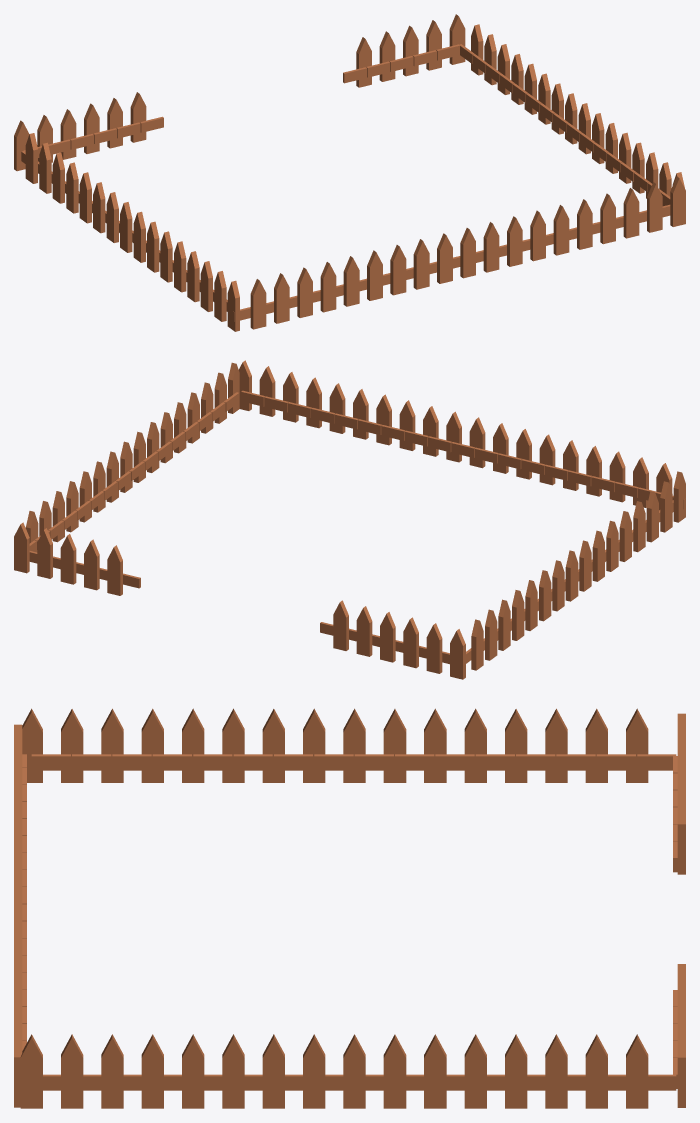
The model's file is Cerca02.fbx.
3 renders of one model, top to bottom at view 1: azimuth 30°, elevation 25°; view 2: azimuth 150°, elevation 25°; view 3: azimuth 270°, elevation 25°, orthographic. The views are drawn at different scales.
Visible parts, largest first — view 1: CERCA_02; view 2: CERCA_02; view 3: CERCA_02.
Boxes of the visible parts, x1,y1,x2,y2 form: CERCA_02: (14, 14, 685, 331); CERCA_02: (14, 360, 685, 679); CERCA_02: (14, 708, 685, 1108).
Bounding box in the file's own units: 1874 × 189 × 1616.
